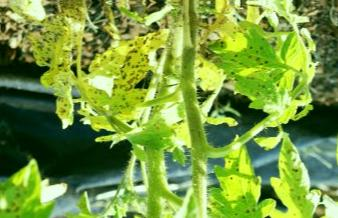Tomato Septoria leaf spot: (203, 19, 311, 108), (83, 20, 167, 109), (29, 0, 91, 118), (270, 134, 327, 218), (208, 149, 270, 218)
